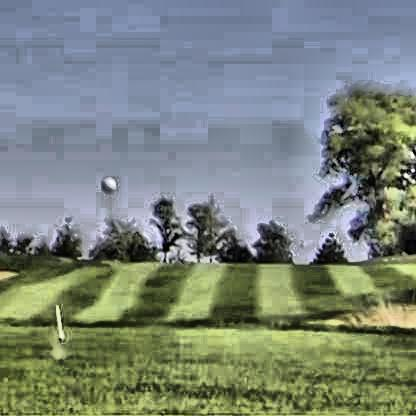golfball: (99, 174, 115, 192)
